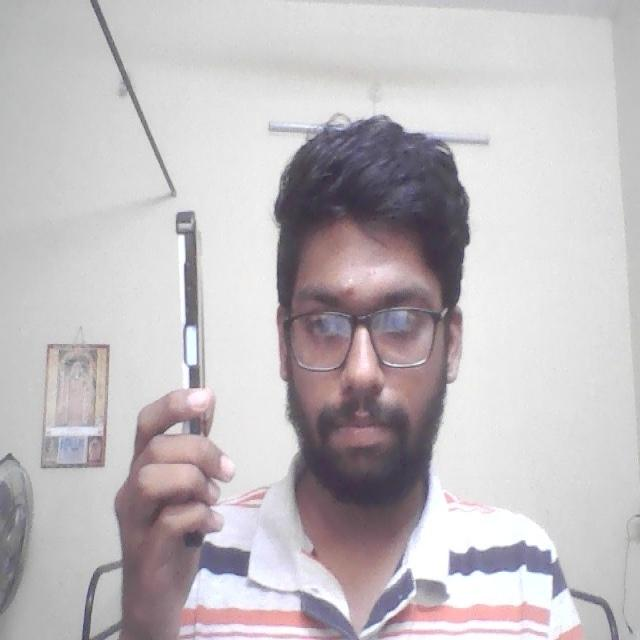Mobile: (171, 202, 212, 437)
